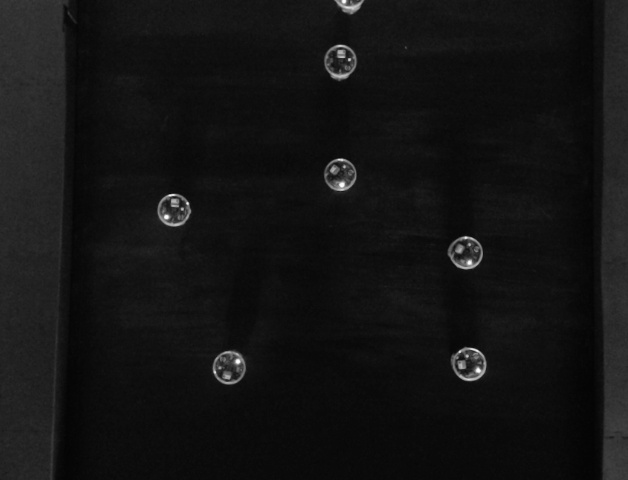epuck_2: (450, 347, 487, 382), (322, 44, 357, 81), (211, 350, 246, 386), (156, 193, 191, 228), (323, 158, 358, 193), (447, 236, 483, 269), (332, 1, 363, 16)
